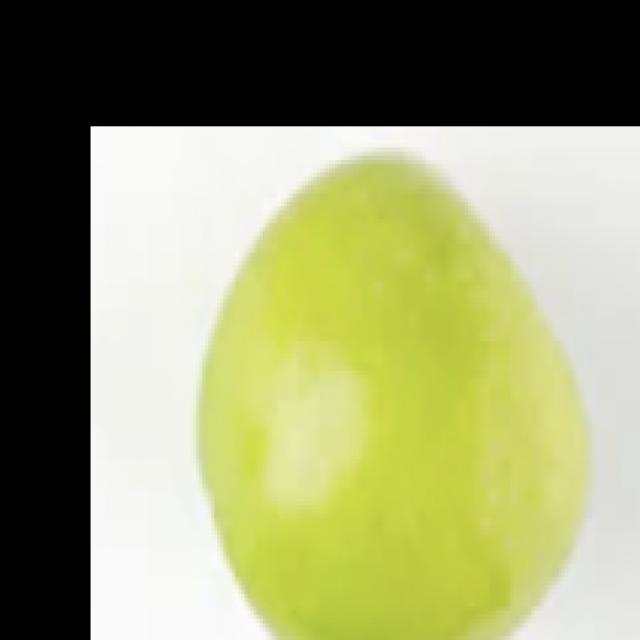Fresh Apple: (199, 146, 603, 640)
